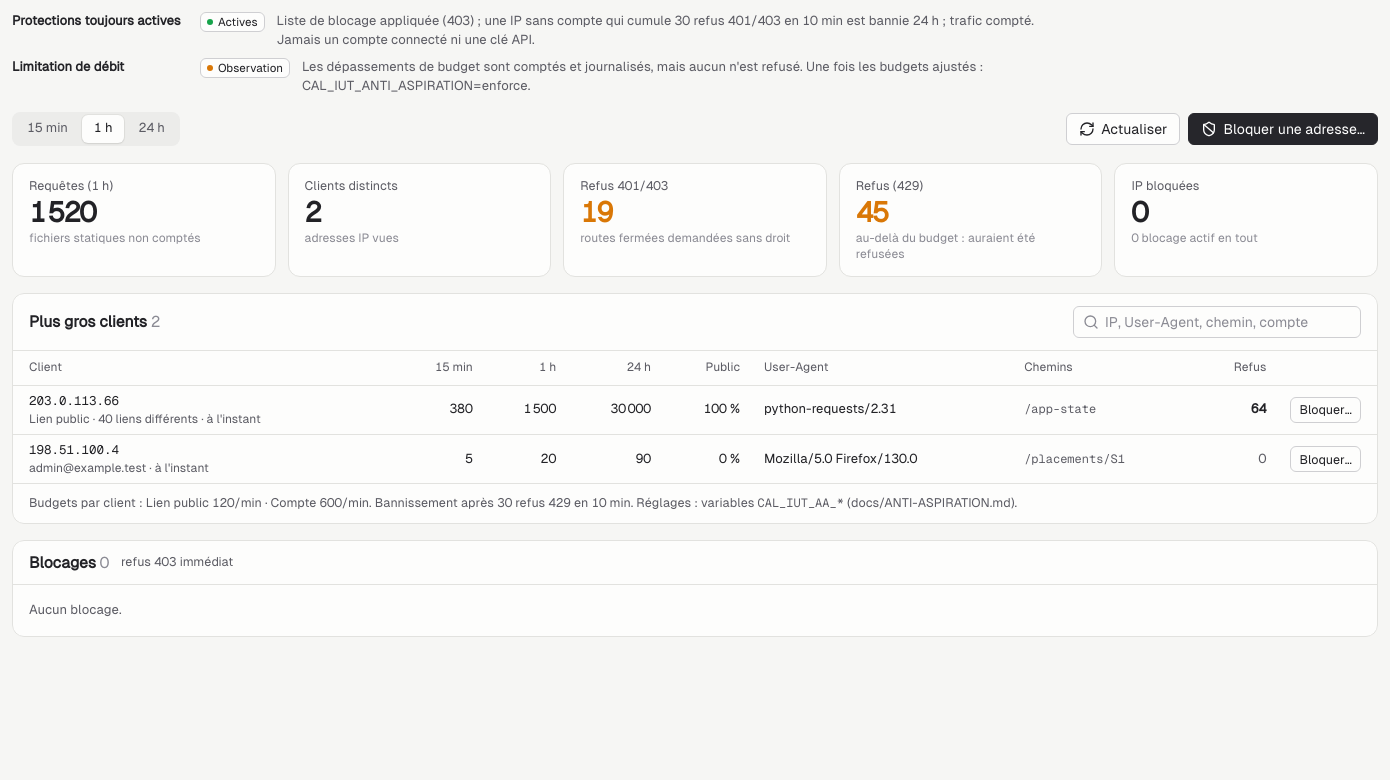
it: TraficView › filtre les clients par User-Agent
Expected: the text "Observation" is shown, [200, 58, 290, 78]
In the search field named "Filtrer les clients": (1217, 322) [1073, 306, 1361, 338], type "python"
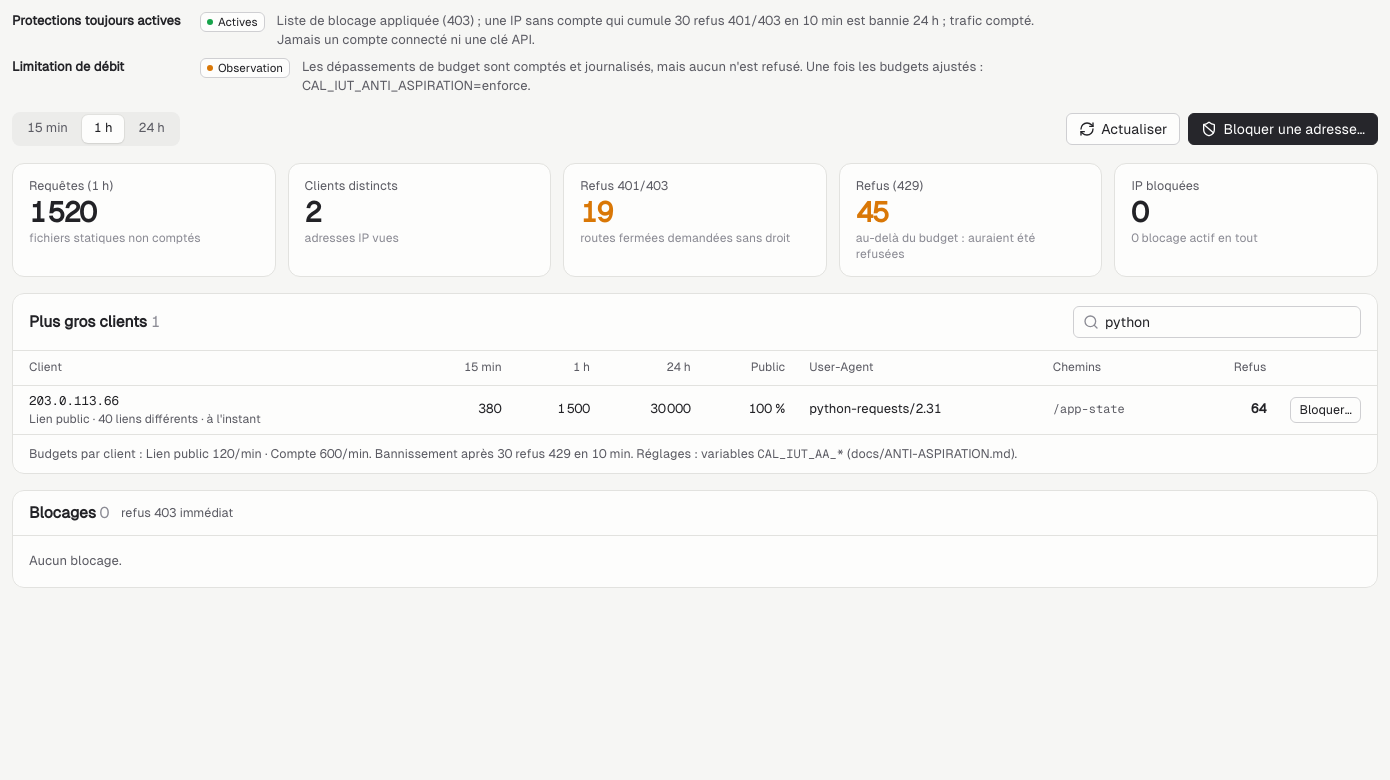
Expected: the row "203.0.113.66" is shown, [13, 385, 1377, 434]
Expected: the text "198.51.100.4" is gone
